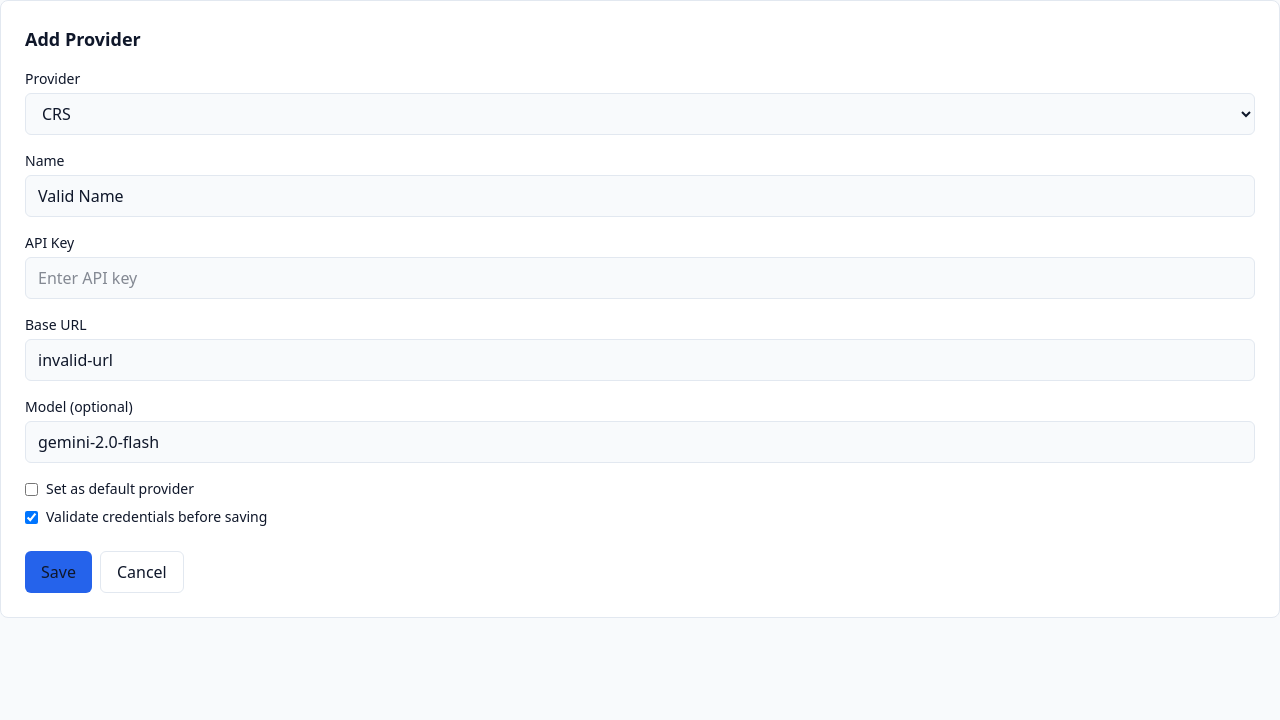
it: CredentialForm › Create Mode › validates base URL format for non-Gemini providers
In the password field with placeholder "Enter API key": (640, 278) left=25, top=257, right=1255, bottom=299, type "validkey123"
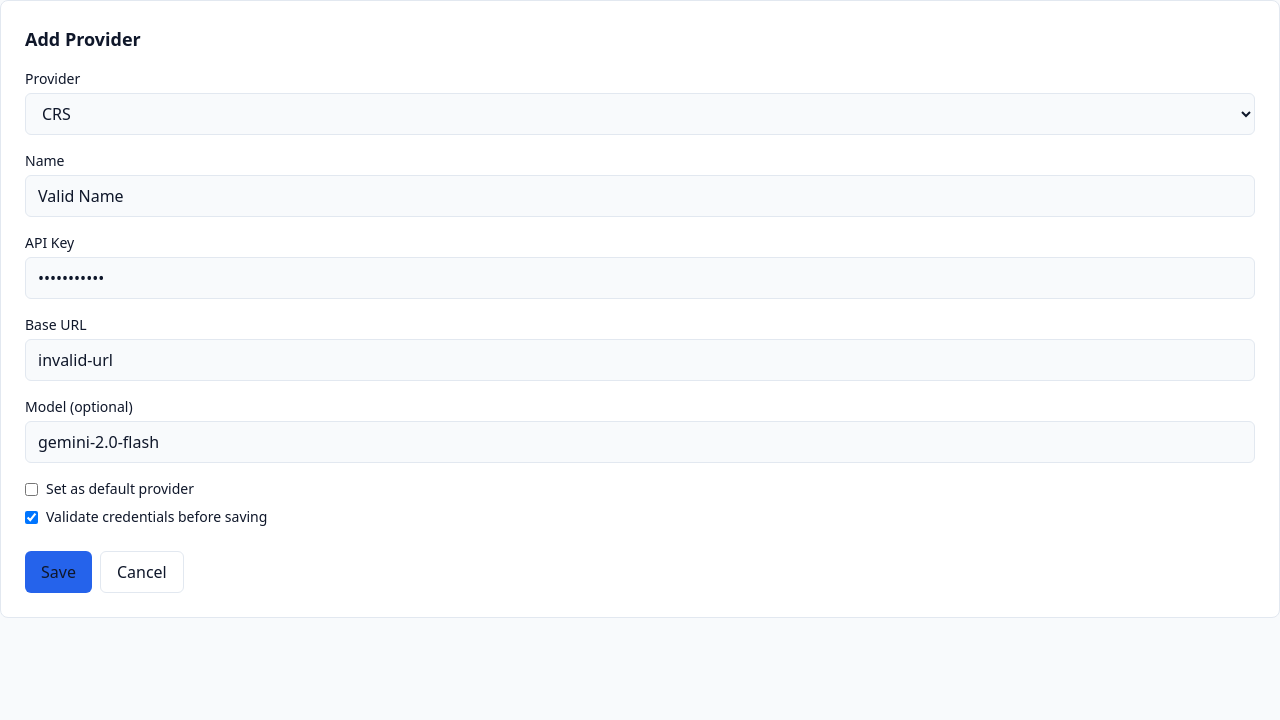
# Debug: check if onSubmit was called (meaning validation passed)
Submit the text "Save"
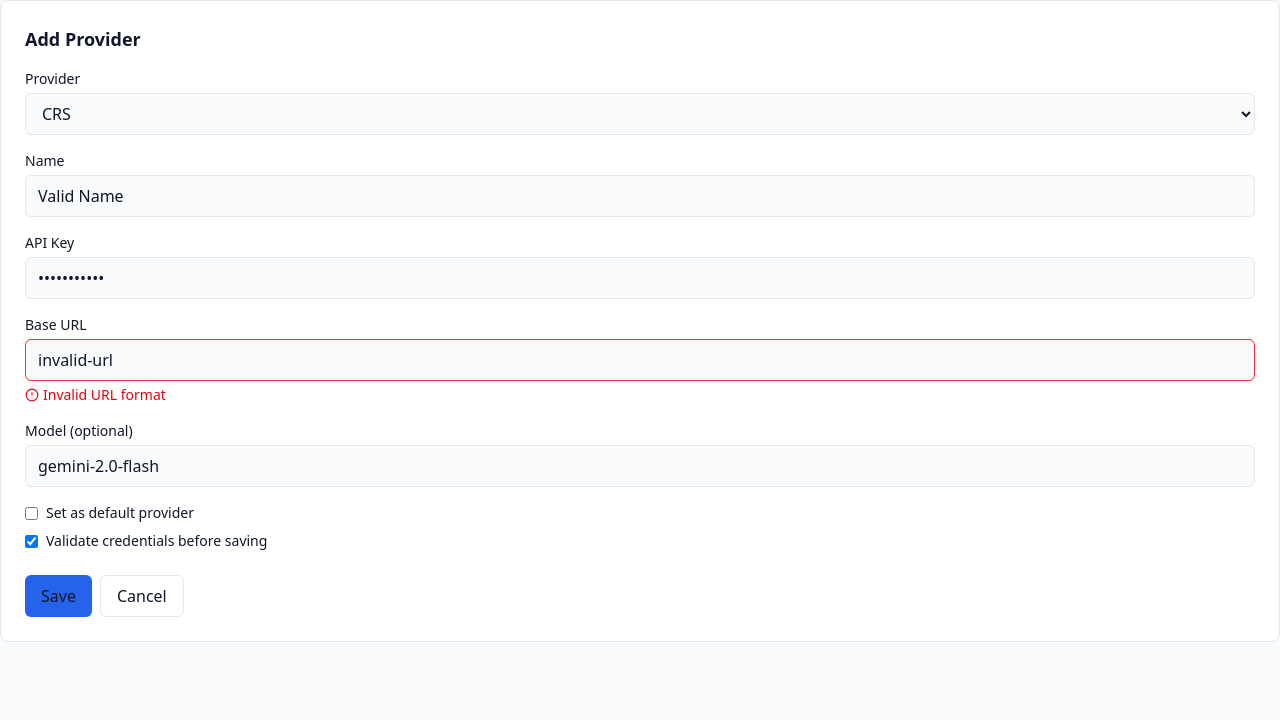
expect the text "Invalid URL format" is shown: met, box left=25, top=385, right=166, bottom=404
